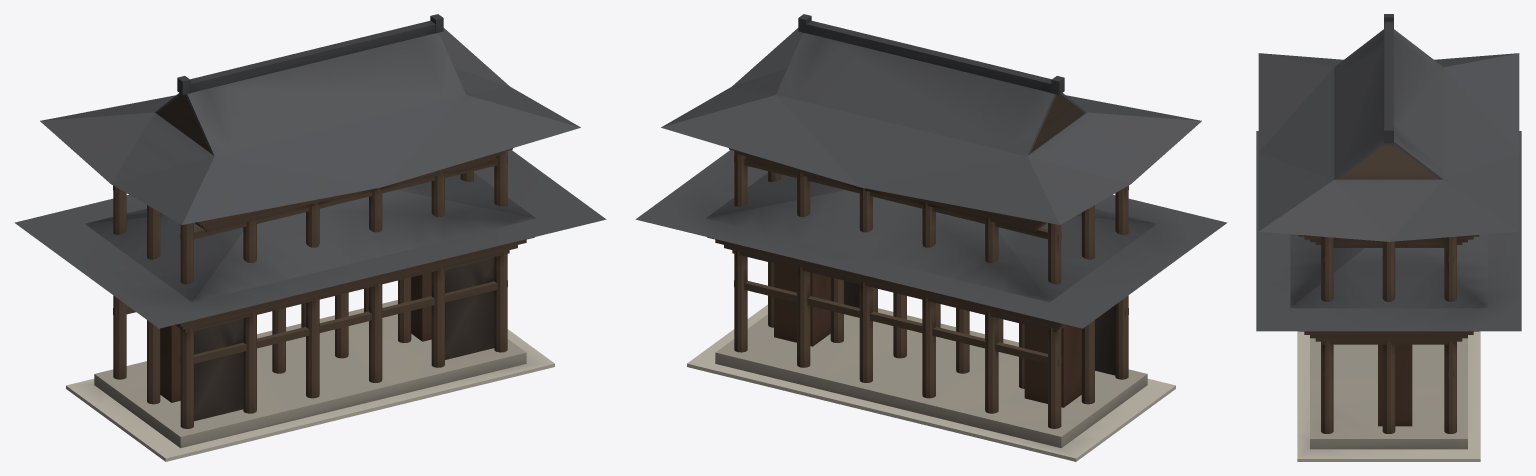
Rendered from nandaimon.glb.
The picture shows the model from 3 angles, left to right: view 1: azimuth 30°, elevation 25°; view 2: azimuth 150°, elevation 25°; view 3: azimuth 270°, elevation 25°; orthographic projection. The views are drawn at different scales.
Parts seen in each view (by area): view 1: p2_roofs, p1_halls, p0_grounds; view 2: p2_roofs, p1_halls, p0_grounds; view 3: p2_roofs, p0_grounds, p1_halls.
Part boxes in pixels (<box>): p2_roofs: <box>14,14,606,328</box>; p1_halls: <box>113,148,534,428</box>; p0_grounds: <box>66,300,554,461</box>; p2_roofs: <box>635,14,1227,328</box>; p1_halls: <box>707,148,1128,428</box>; p0_grounds: <box>687,304,1175,461</box>; p2_roofs: <box>1256,14,1521,331</box>; p0_grounds: <box>1297,331,1480,461</box>; p1_halls: <box>1298,235,1479,433</box>.
Bounding box in the file's own units: 41.4 × 29.18 × 23.2.
